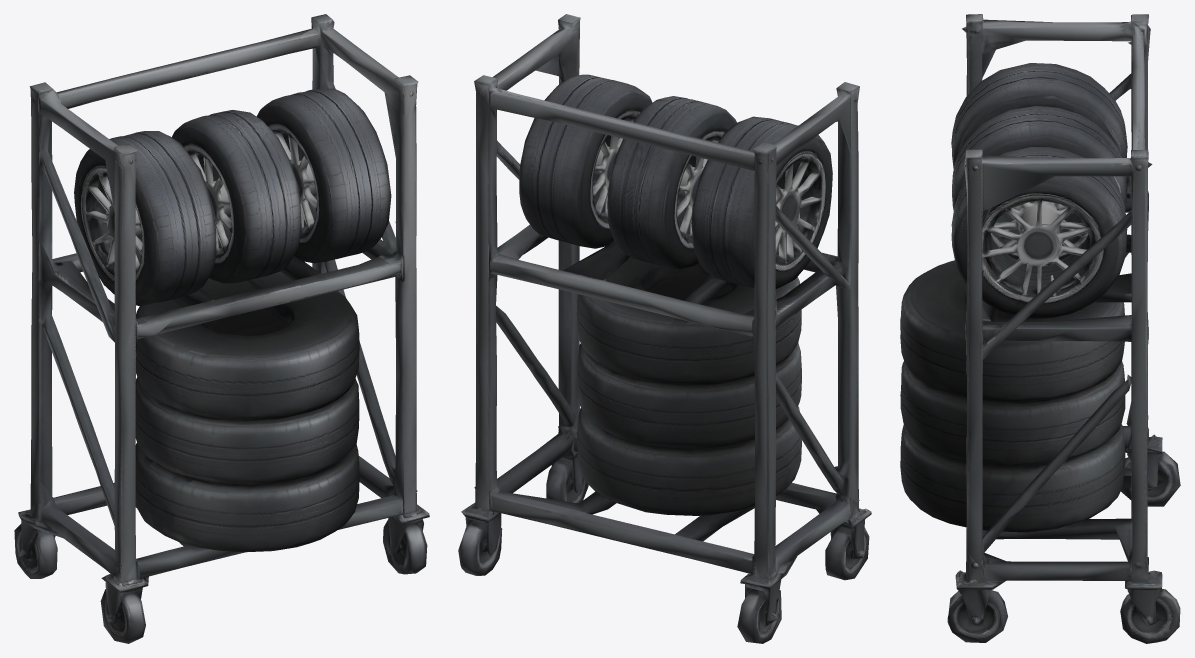
The model's file is tire rack 3d model.glb.
3 renders of one model, left to right at view 1: azimuth 30°, elevation 25°; view 2: azimuth 150°, elevation 25°; view 3: azimuth 270°, elevation 25°, orthographic.
Visible parts, largest first — view 1: tripo_node_51729128-17e1-46e4-a112-728db5dd7126; view 2: tripo_node_51729128-17e1-46e4-a112-728db5dd7126; view 3: tripo_node_51729128-17e1-46e4-a112-728db5dd7126.
Part boxes in pixels (x1,y1,x2,y2): tripo_node_51729128-17e1-46e4-a112-728db5dd7126: (14, 14, 429, 643); tripo_node_51729128-17e1-46e4-a112-728db5dd7126: (458, 14, 871, 643); tripo_node_51729128-17e1-46e4-a112-728db5dd7126: (900, 14, 1180, 643).
Size of the model in its own units: 0.666 by 1 by 0.519.
Materials: 1 (1 with a texture image).
